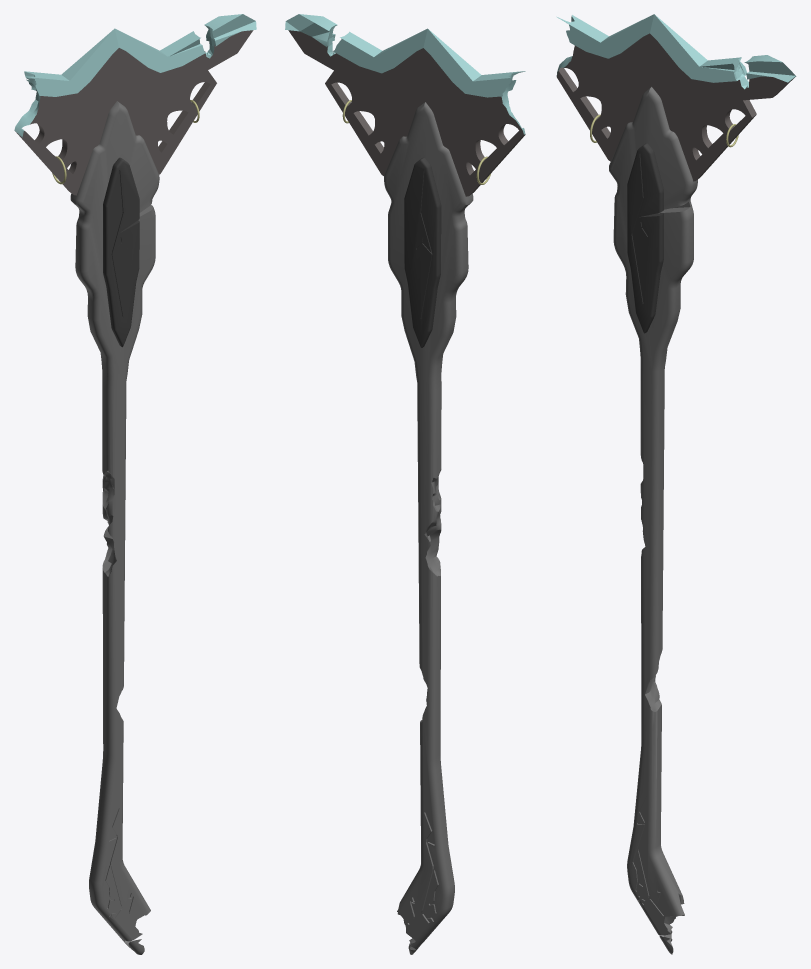
The model's file is weapon1_broken.gltf.
3 views of the same model, side by side, from view 1: azimuth 30°, elevation 25°; view 2: azimuth 150°, elevation 25°; view 3: azimuth 330°, elevation 25° (orthographic).
Parts seen in each view (by area): view 1: Weapon1_Broken; view 2: Weapon1_Broken; view 3: Weapon1_Broken.
Boxes of the visible parts, x1,y1,x2,y2 form: Weapon1_Broken: [14, 14, 256, 954]; Weapon1_Broken: [285, 14, 525, 954]; Weapon1_Broken: [556, 14, 796, 954].
Size of the model in its own units: 1.32 by 4.91 by 0.1706.
